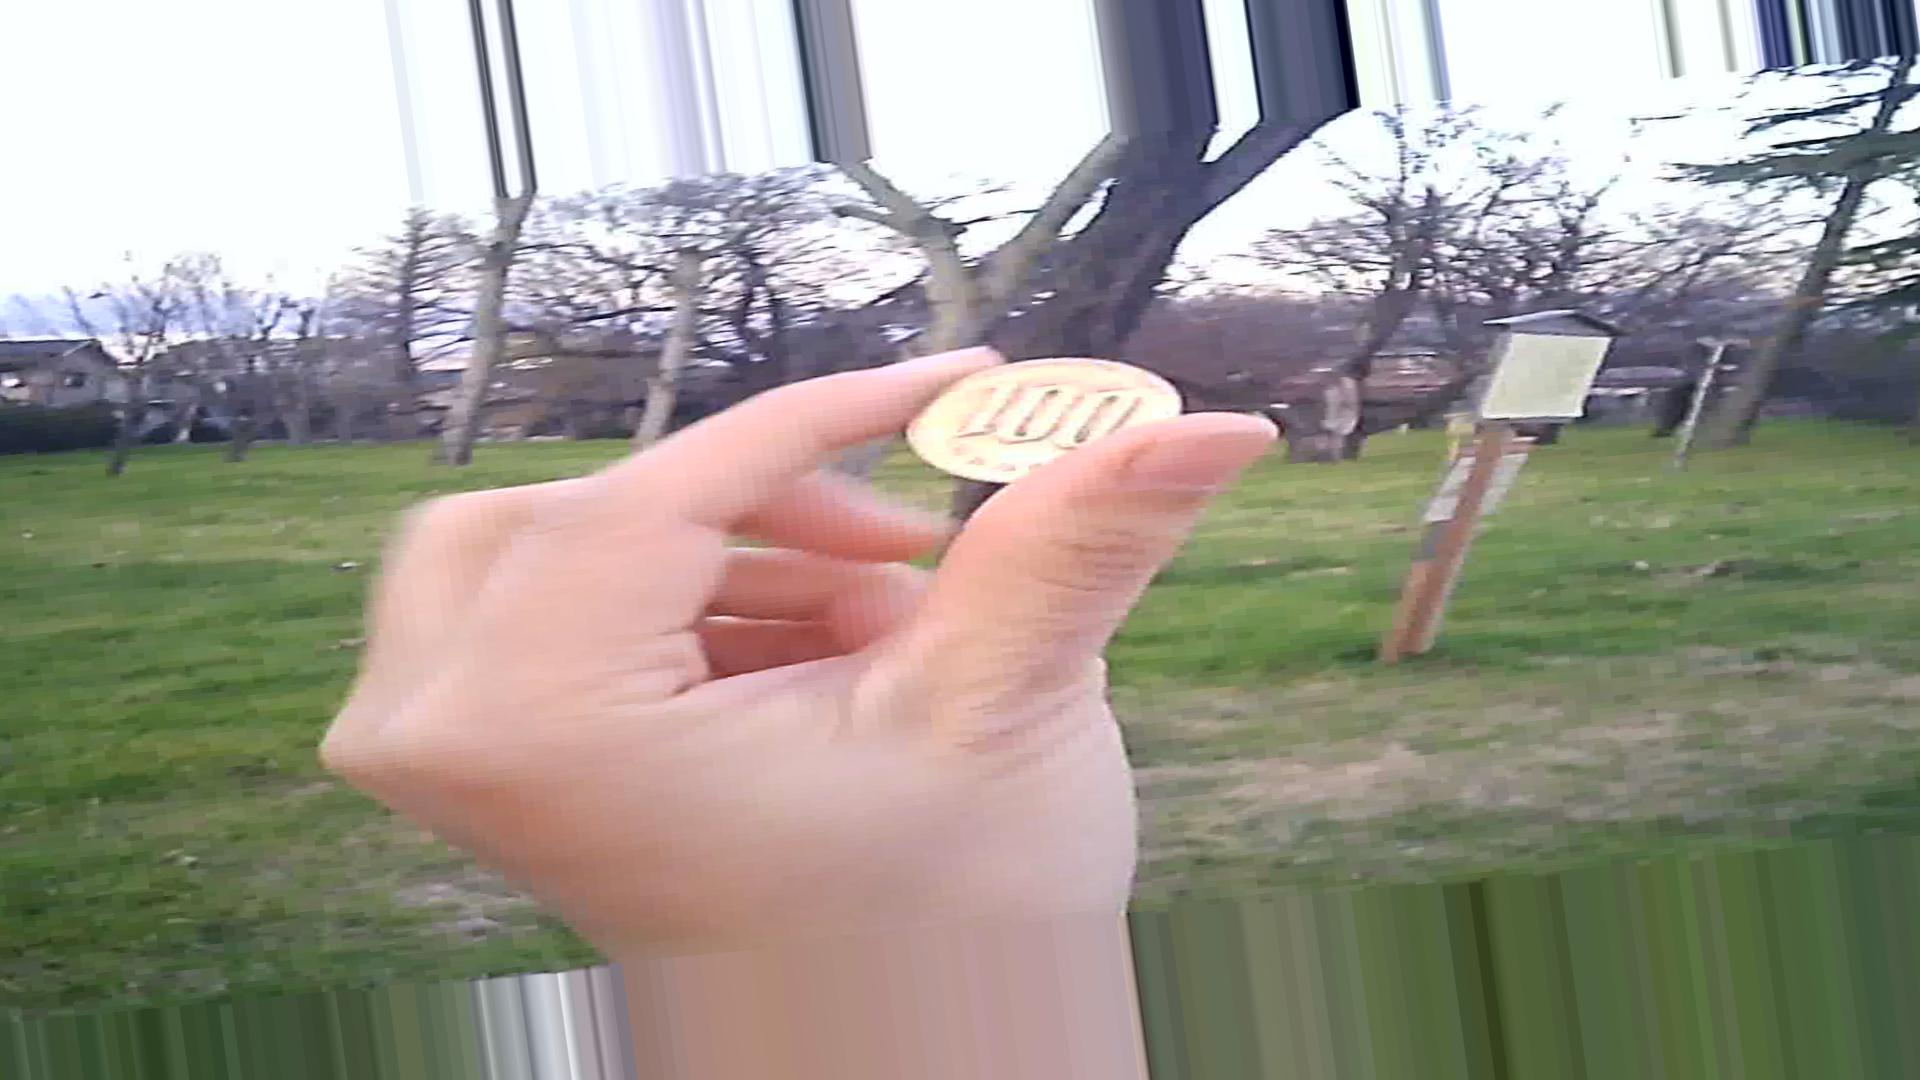100 Yen: (891, 352, 1179, 492)
